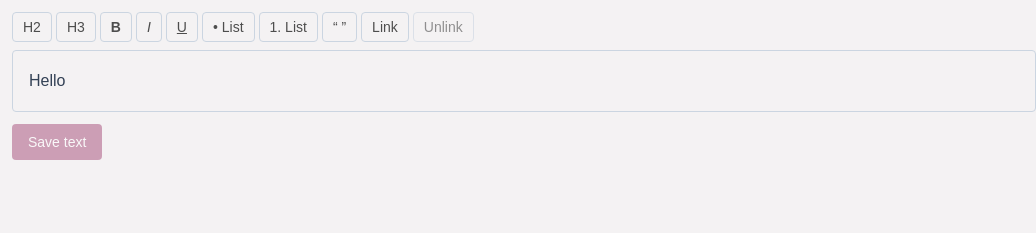
Test: LessonTextEditor › sends the changed text as HTML for this lesson, then shows it saved and refreshes the page
Click the button named "Heading".
click(32, 27)  # box [12,12,52,42]
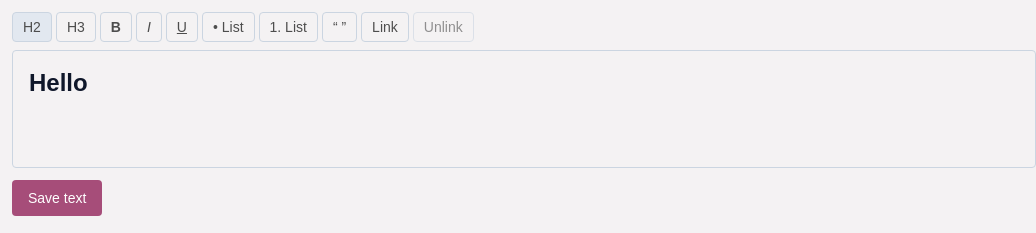
Click the button "Save text".
click(57, 198)  # box [12,180,102,216]
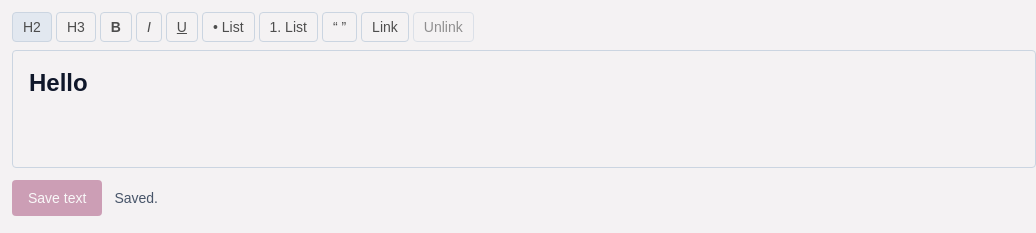
Now the message reads "Saved.", box [114,190,158,206]
Now the button "Save text" is disabled, box [12,180,102,216]
